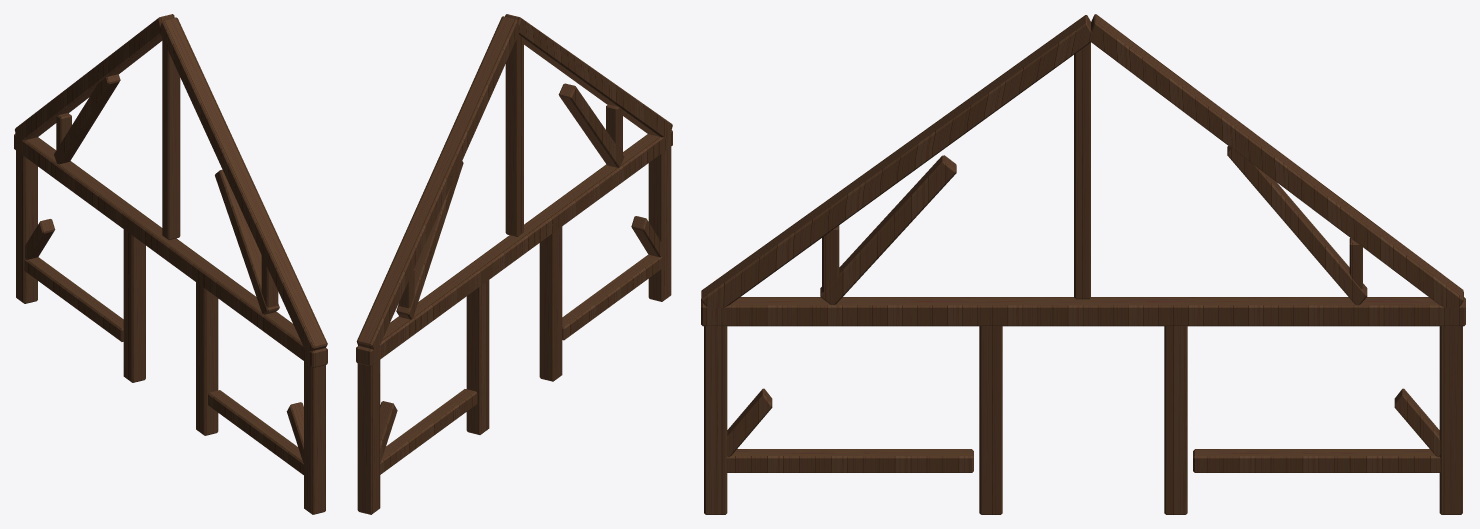
File: SM_HH_V2_Timber_Rear.fbx
3 renders of one model, left to right at view 1: azimuth 30°, elevation 25°; view 2: azimuth 150°, elevation 25°; view 3: azimuth 270°, elevation 25°, orthographic. The views are drawn at different scales.
Parts seen in each view (by area): view 1: HH_V2_Timber_Rear; view 2: HH_V2_Timber_Rear; view 3: HH_V2_Timber_Rear.
Boxes of the visible parts, box(x1,y1,x2,y2) form: HH_V2_Timber_Rear: box(14, 14, 327, 514); HH_V2_Timber_Rear: box(356, 14, 672, 514); HH_V2_Timber_Rear: box(701, 14, 1465, 514).
Bounding box in the file's own units: 8.86 × 0.27 × 6.3.
